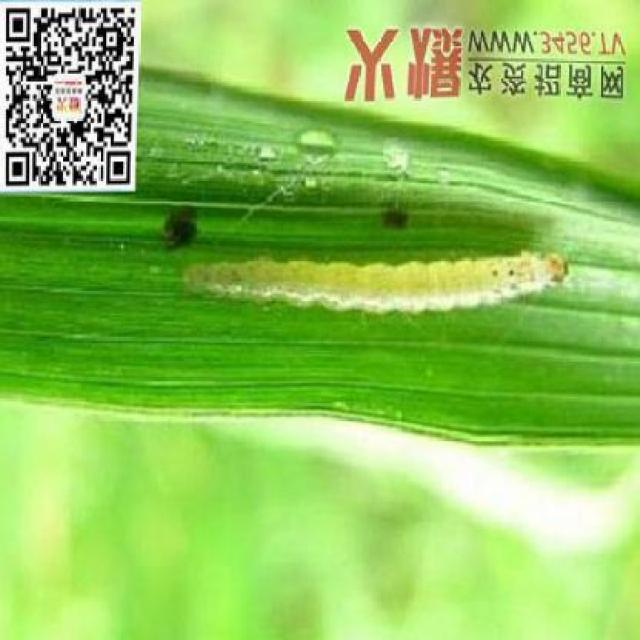leaf-folder: (175, 219, 580, 361)
